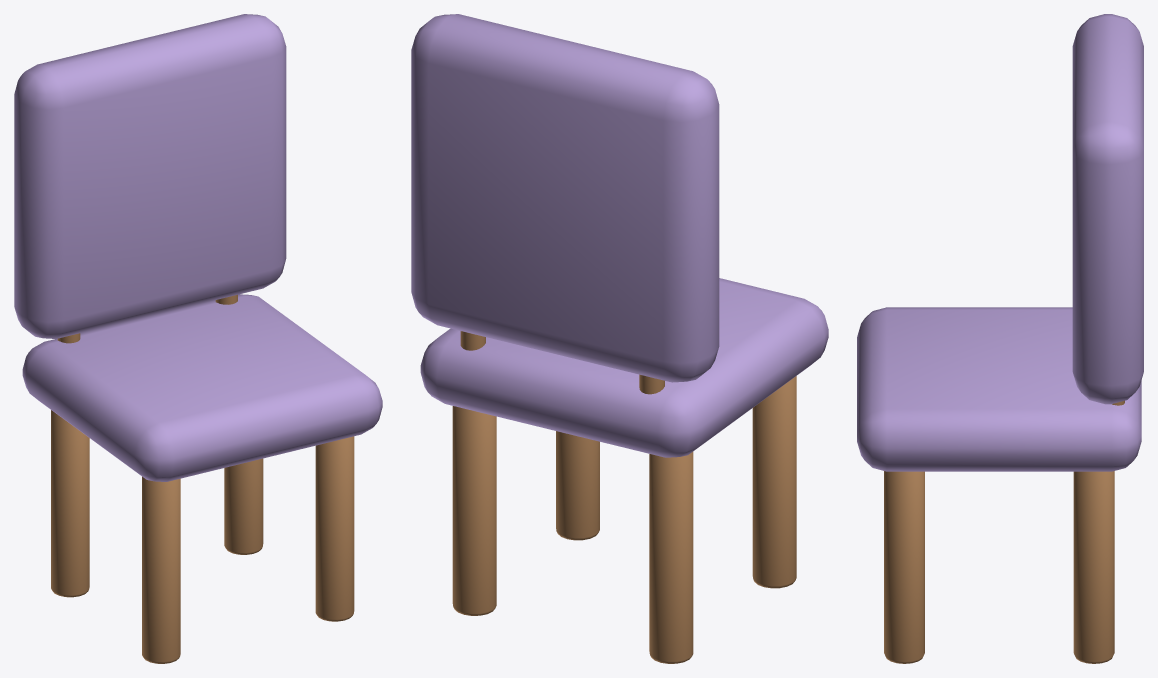
File: chair.glb
The picture shows the model from 3 angles, left to right: view 1: azimuth 30°, elevation 25°; view 2: azimuth 150°, elevation 25°; view 3: azimuth 270°, elevation 25°; orthographic projection. The views are drawn at different scales.
Parts seen in each view (by area): view 1: AssetSurface; view 2: AssetSurface; view 3: AssetSurface.
Boxes of the visible parts, x1=… form: AssetSurface: x1=14, y1=14, x2=382, y2=663; AssetSurface: x1=411, y1=14, x2=828, y2=663; AssetSurface: x1=857, y1=14, x2=1143, y2=663.
Size of the model in its own units: 0.66 by 1.27 by 0.605.
